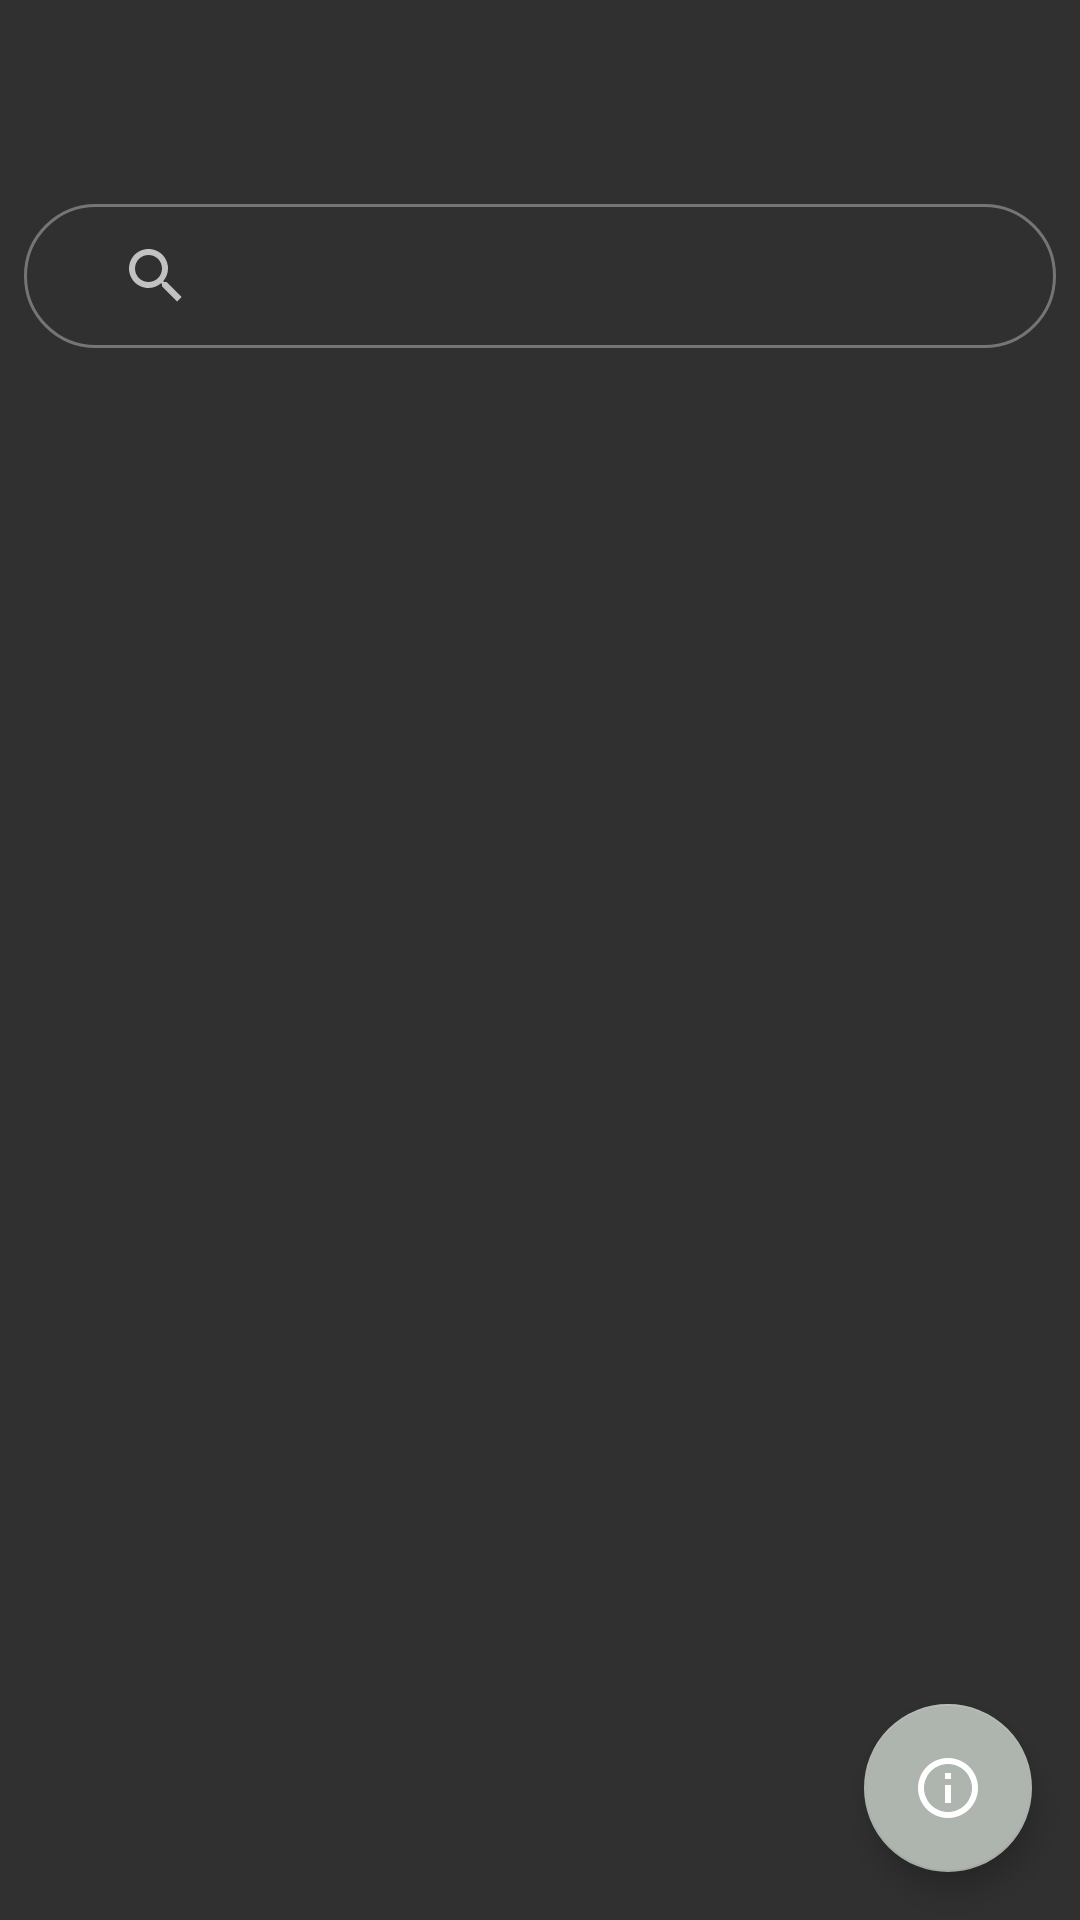

Point at icon controls on the screen. Image size 1080px x 1920px, points as (x=x, y=y).
fab: (x=948, y=1788)
